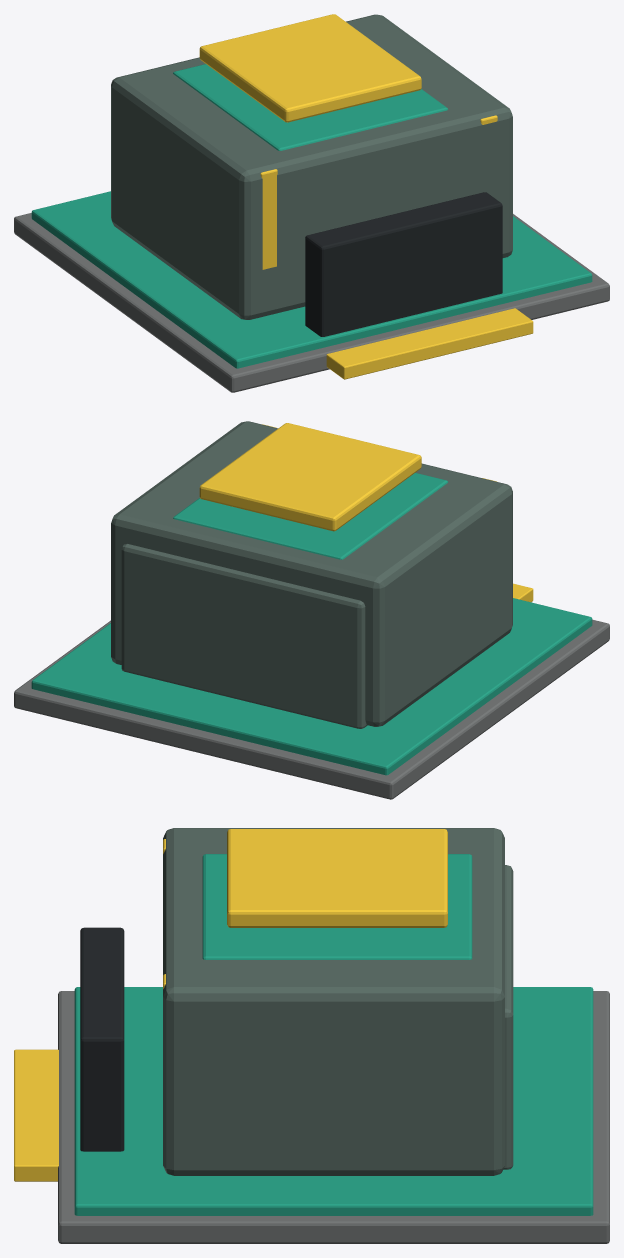
File: SM_Coalition_CO_WarFactory.fbx
The picture shows the model from 3 angles, top to bottom: view 1: azimuth 30°, elevation 25°; view 2: azimuth 150°, elevation 25°; view 3: azimuth 270°, elevation 25°; orthographic projection. The views are drawn at different scales.
Parts seen in each view (by area): view 1: SM_Coalition_CO_WarFactory_Hangar, SM_Coalition_CO_WarFactory_AssemblyDoor, SM_Coalition_CO_WarFactory_FoundationTrim, SM_Coalition_CO_WarFactory_Roof_2, SM_Coalition_CO_WarFactory, SM_Coalition_CO_WarFactory_Roof_1, SM_Coalition_CO_WarFactory_ExitRamp, SM_Coalition_CO_WarFactory_Fin_-1; view 2: SM_Coalition_CO_WarFactory_Hangar, SM_Coalition_CO_WarFactory_MainMass, SM_Coalition_CO_WarFactory_FoundationTrim, SM_Coalition_CO_WarFactory, SM_Coalition_CO_WarFactory_Roof_2, SM_Coalition_CO_WarFactory_Roof_1; view 3: SM_Coalition_CO_WarFactory_Hangar, SM_Coalition_CO_WarFactory_FoundationTrim, SM_Coalition_CO_WarFactory, SM_Coalition_CO_WarFactory_Roof_2, SM_Coalition_CO_WarFactory_Roof_1, SM_Coalition_CO_WarFactory_AssemblyDoor, SM_Coalition_CO_WarFactory_ExitRamp, SM_Coalition_CO_WarFactory_MainMass.
Boxes of the visible parts, x1=… form: SM_Coalition_CO_WarFactory_Hangar: x1=111, y1=14, x2=512, y2=319; SM_Coalition_CO_WarFactory_AssemblyDoor: x1=305, y1=192, x2=502, y2=336; SM_Coalition_CO_WarFactory_FoundationTrim: x1=31, y1=191, x2=592, y2=368; SM_Coalition_CO_WarFactory_Roof_2: x1=199, y1=14, x2=421, y2=122; SM_Coalition_CO_WarFactory: x1=14, y1=213, x2=609, y2=392; SM_Coalition_CO_WarFactory_Roof_1: x1=173, y1=64, x2=447, y2=150; SM_Coalition_CO_WarFactory_ExitRamp: x1=326, y1=308, x2=533, y2=379; SM_Coalition_CO_WarFactory_Fin_-1: x1=260, y1=169, x2=277, y2=269; SM_Coalition_CO_WarFactory_Hangar: x1=111, y1=421, x2=512, y2=726; SM_Coalition_CO_WarFactory_MainMass: x1=121, y1=544, x2=367, y2=728; SM_Coalition_CO_WarFactory_FoundationTrim: x1=31, y1=598, x2=592, y2=775; SM_Coalition_CO_WarFactory: x1=14, y1=619, x2=609, y2=799; SM_Coalition_CO_WarFactory_Roof_2: x1=199, y1=423, x2=421, y2=531; SM_Coalition_CO_WarFactory_Roof_1: x1=173, y1=473, x2=447, y2=559; SM_Coalition_CO_WarFactory_Hangar: x1=163, y1=828, x2=504, y2=1175; SM_Coalition_CO_WarFactory_FoundationTrim: x1=74, y1=987, x2=593, y2=1215; SM_Coalition_CO_WarFactory: x1=58, y1=991, x2=609, y2=1243; SM_Coalition_CO_WarFactory_Roof_2: x1=227, y1=829, x2=447, y2=927; SM_Coalition_CO_WarFactory_Roof_1: x1=202, y1=854, x2=472, y2=959; SM_Coalition_CO_WarFactory_AssemblyDoor: x1=80, y1=927, x2=124, y2=1151; SM_Coalition_CO_WarFactory_ExitRamp: x1=14, y1=1049, x2=58, y2=1181; SM_Coalition_CO_WarFactory_MainMass: x1=503, y1=865, x2=513, y2=1169.
Size of what is drawn, in the model's own units: 800 by 864 by 415.
